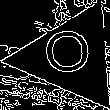O_S: (45, 30, 96, 84)
